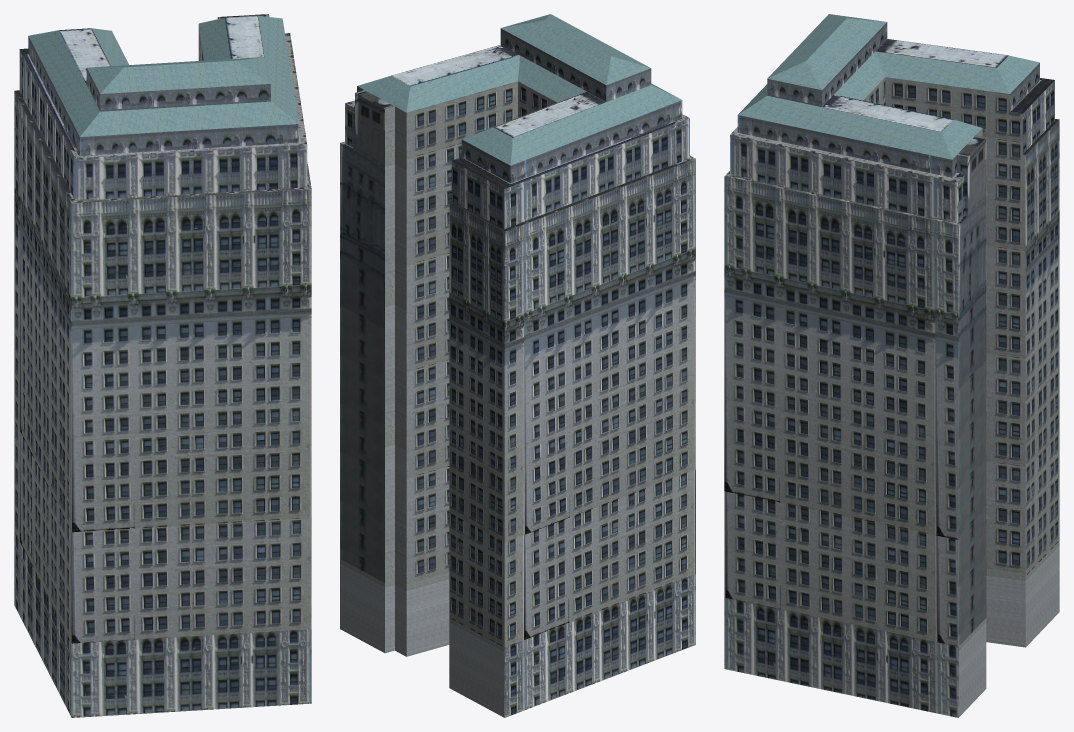
The model's file is 2 rector street.fbx.
3 views of the same model, side by side, from view 1: azimuth 30°, elevation 25°; view 2: azimuth 150°, elevation 25°; view 3: azimuth 270°, elevation 25° (orthographic). The views are drawn at different scales.
Parts seen in each view (by area): view 1: Model; view 2: Model; view 3: Model.
Boxes of the visible parts, x1,y1,x2,y2 form: Model: (14, 14, 311, 717); Model: (340, 14, 695, 717); Model: (724, 14, 1059, 717).
Size of the model in its own units: 2102 by 4154 by 2130.
